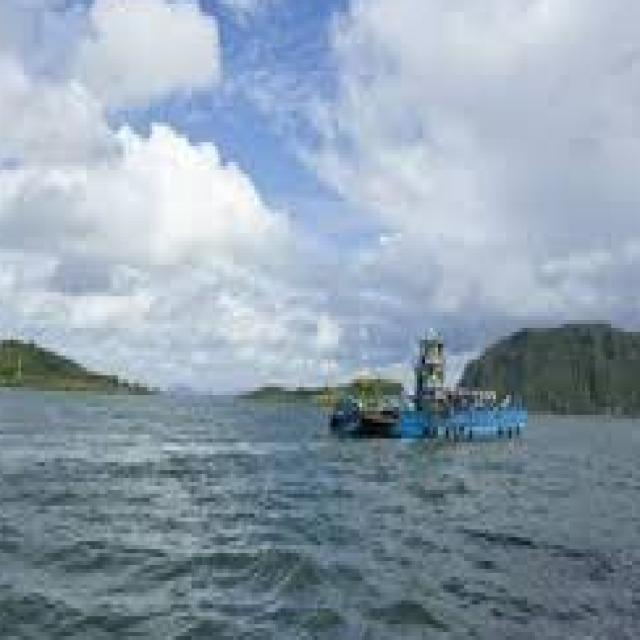cargoship: (326, 323, 549, 441)
